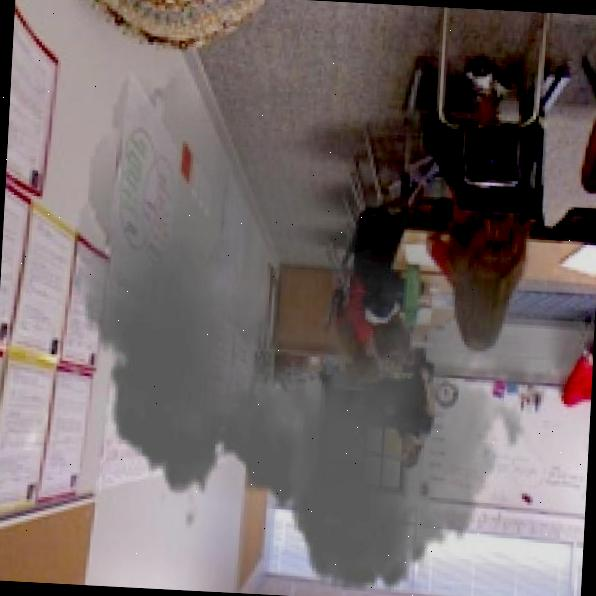smoke: (57, 45, 596, 596)
